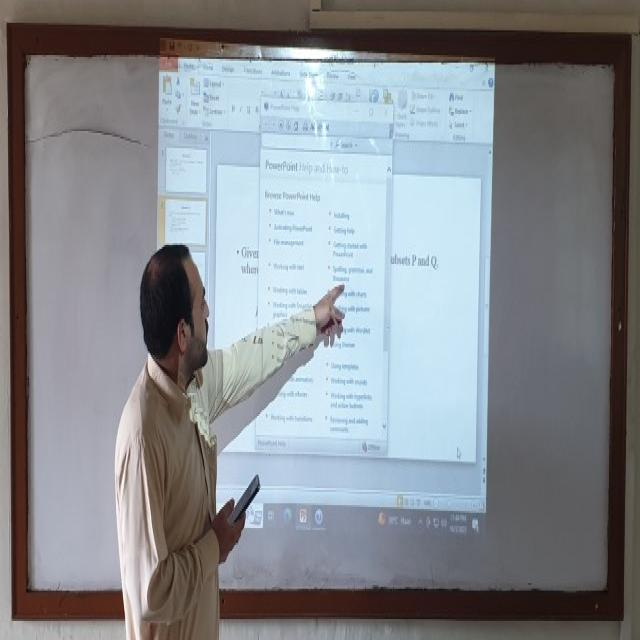Instructor: (121, 236, 233, 640)
Slide: (150, 29, 498, 569)
White-board: (16, 31, 620, 607)
